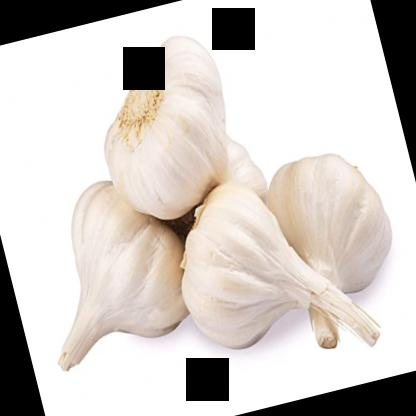garlic: (160, 156, 380, 387), (21, 167, 205, 374), (253, 138, 415, 359), (76, 28, 250, 233)
